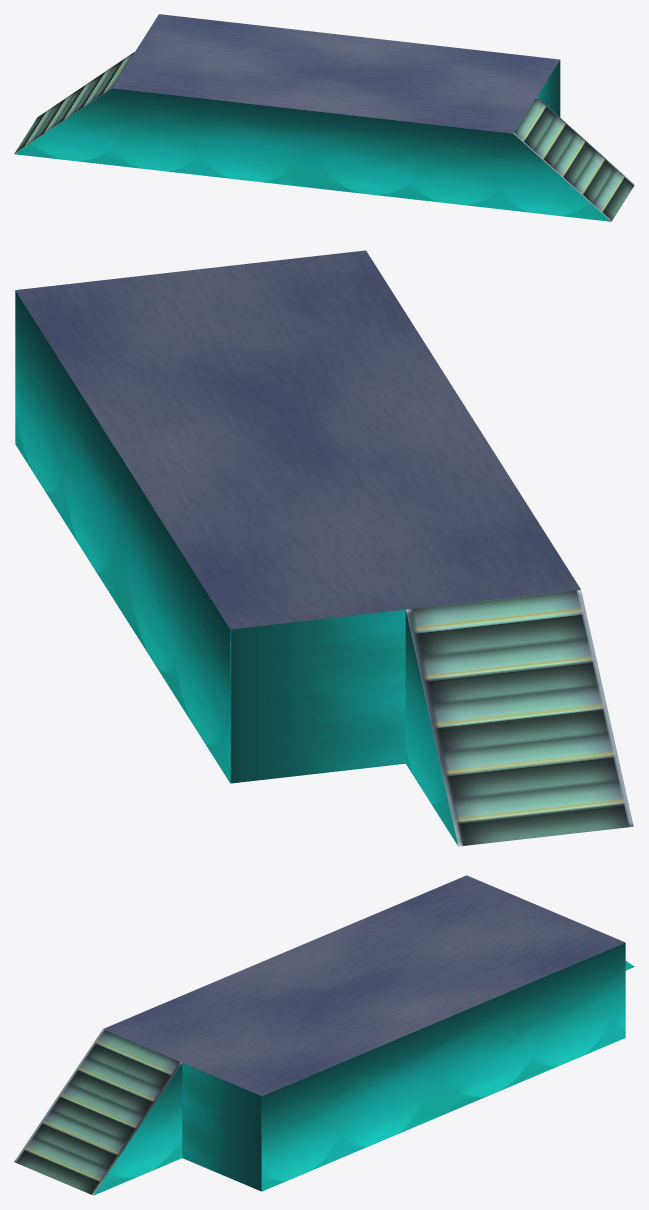
The model's file is wheel3.glb.
3 renders of one model, top to bottom at view 1: azimuth 30°, elevation 25°; view 2: azimuth 150°, elevation 25°; view 3: azimuth 270°, elevation 25°, orthographic. The views are drawn at different scales.
Parts seen in each view (by area): view 1: wheel3; view 2: wheel3; view 3: wheel3.
Boxes of the visible parts, bbox=[...] form: wheel3: bbox=[14, 14, 634, 221]; wheel3: bbox=[15, 250, 633, 846]; wheel3: bbox=[14, 875, 634, 1195].
Size of the model in its own units: 1087 by 184 by 1087.
3 materials, 3 textured.
